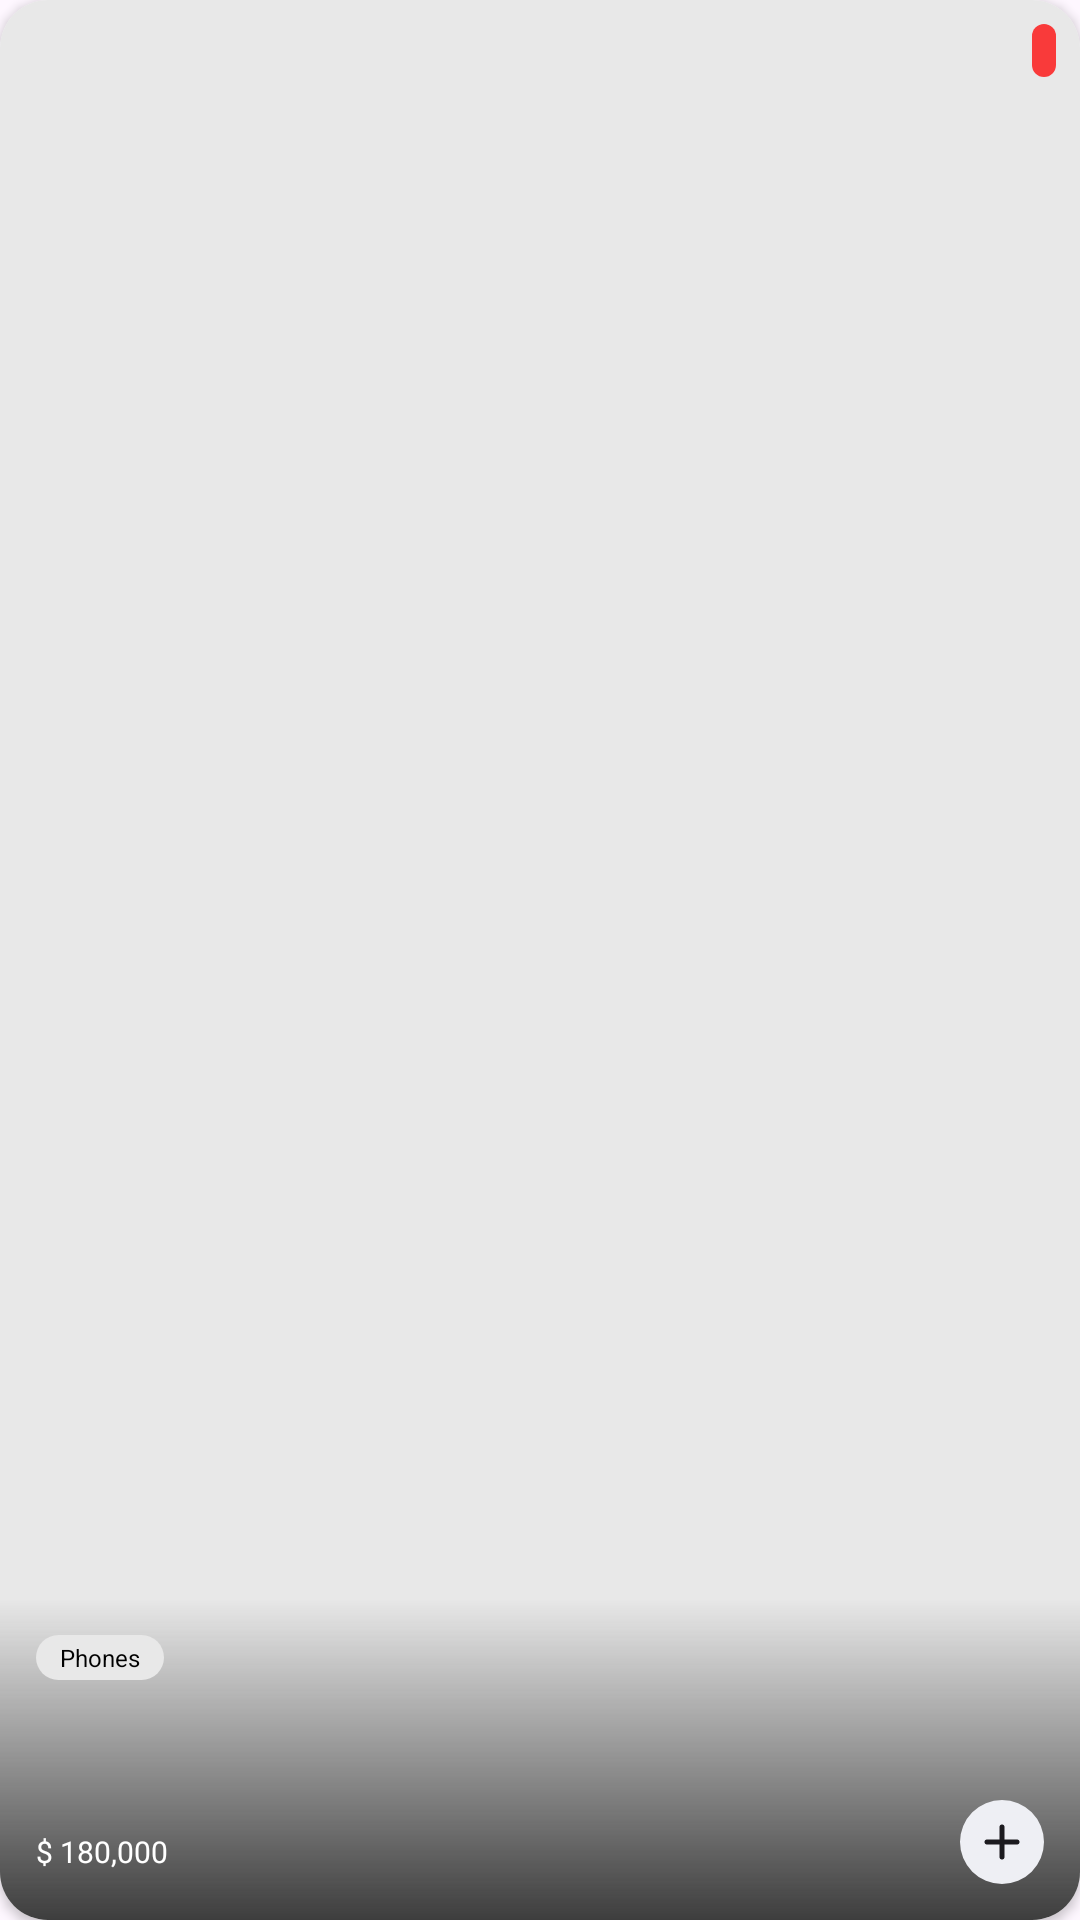

Icon click points for this 1080px×1920px phone screenshot, format (x=x, y=y):
plus: (x=1002, y=1842)
